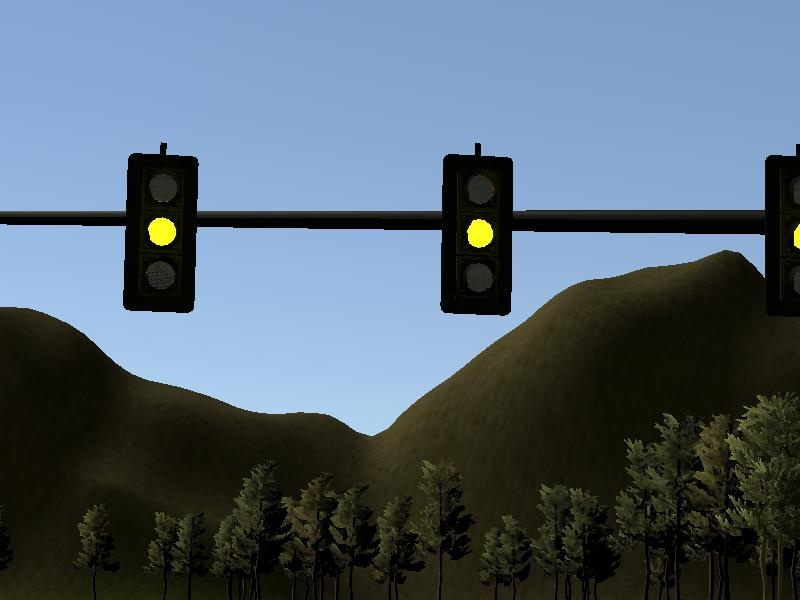yellow: (431, 140, 519, 321), (112, 141, 201, 319), (757, 148, 800, 313)
